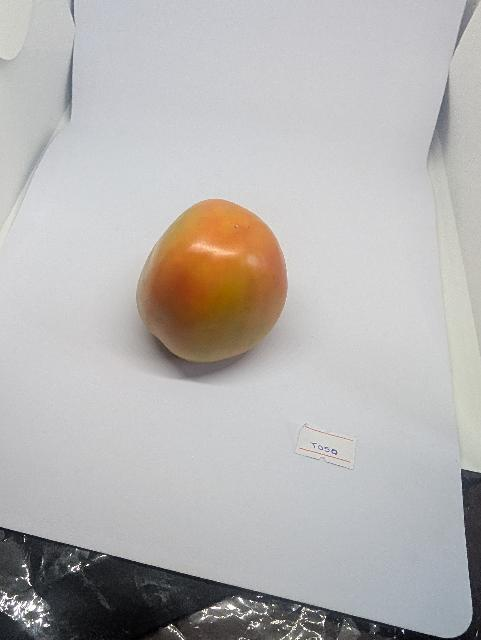turning: (132, 188, 295, 368)
